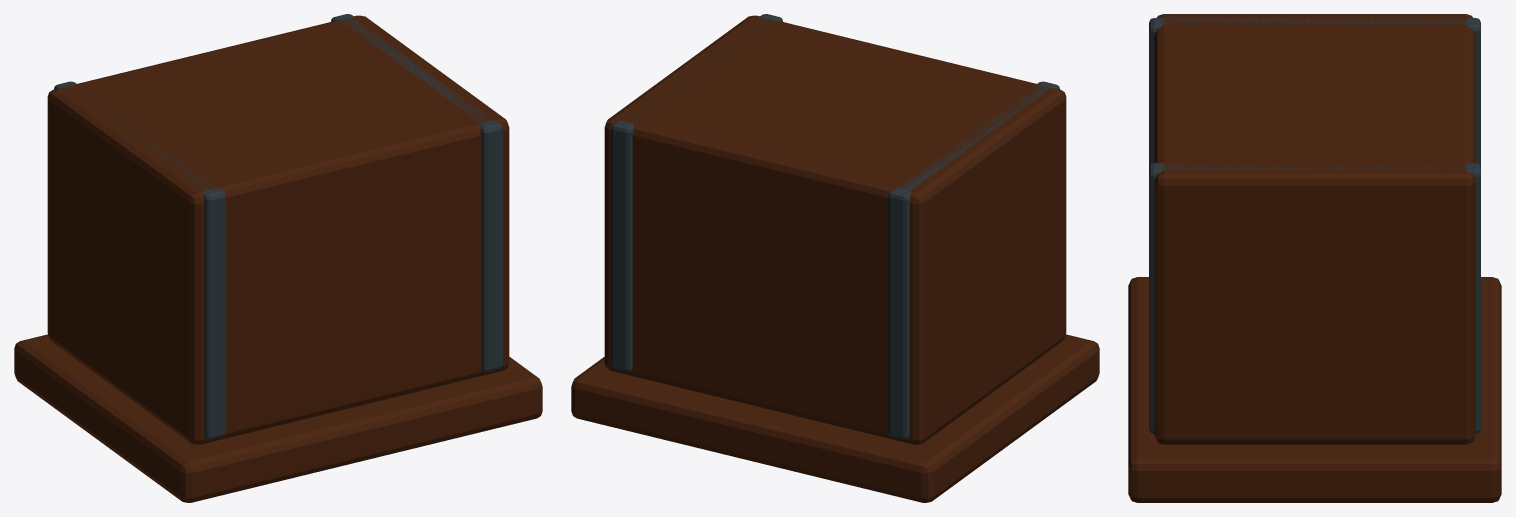
Rendered from FactoryCrate.fbx.
The picture shows the model from 3 angles, left to right: view 1: azimuth 30°, elevation 25°; view 2: azimuth 150°, elevation 25°; view 3: azimuth 270°, elevation 25°; orthographic projection. The views are drawn at different scales.
Parts seen in each view (by area): view 1: FactoryCrate; view 2: FactoryCrate; view 3: FactoryCrate.
Boxes of the visible parts, x1=… form: FactoryCrate: x1=14, y1=14, x2=542, y2=502; FactoryCrate: x1=571, y1=14, x2=1099, y2=502; FactoryCrate: x1=1128, y1=14, x2=1501, y2=502.
Bounding box in the file's own units: 120 × 100 × 94.
